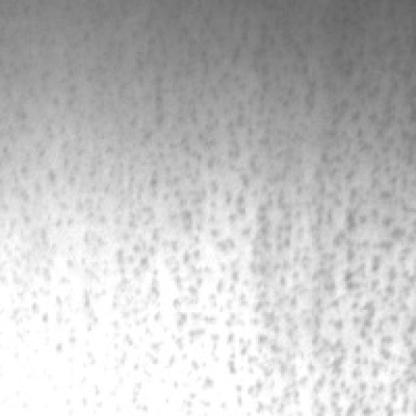pitted_surface: (23, 14, 410, 410)
